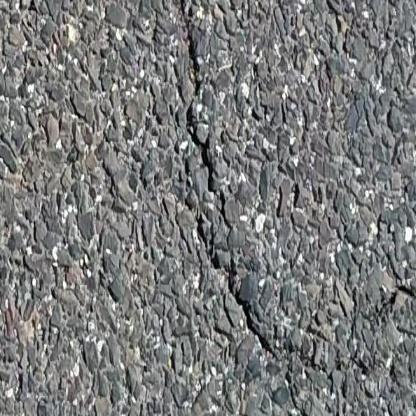Cracks: (76, 189, 408, 416), (138, 0, 245, 255), (346, 216, 416, 357)
